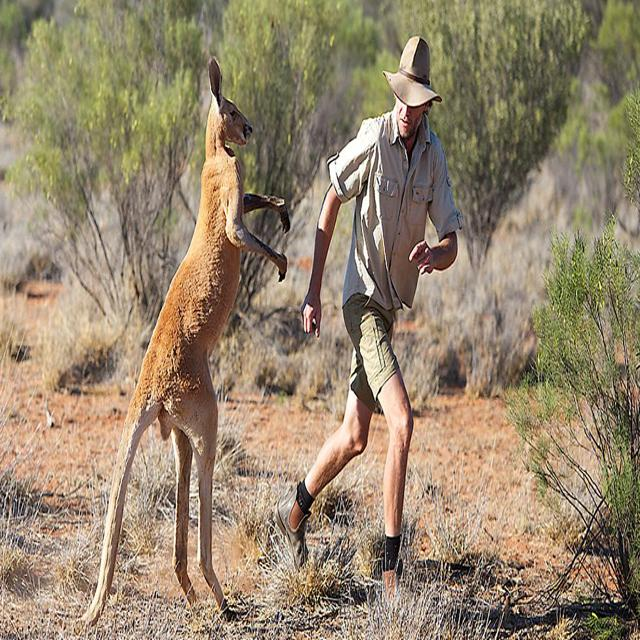kangaroo: (149, 62, 277, 606)
